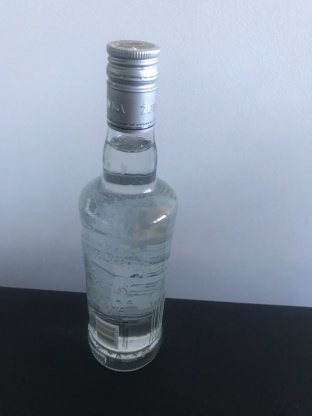nakretka: (104, 35, 162, 136)
